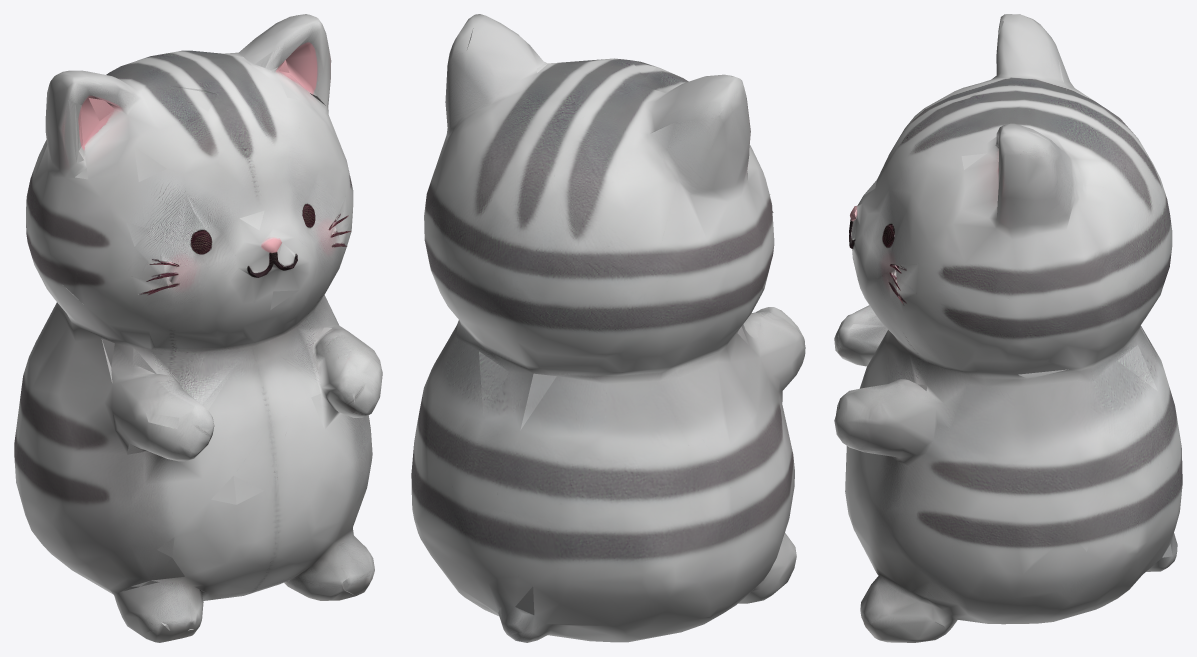
The model's file is PelucheChat.fbx.
The picture shows the model from 3 angles, left to right: view 1: azimuth 30°, elevation 25°; view 2: azimuth 150°, elevation 25°; view 3: azimuth 270°, elevation 25°; orthographic projection. The views are drawn at different scales.
Visible parts, largest first — view 1: Mesh_0; view 2: Mesh_0; view 3: Mesh_0.
Part boxes in pixels (bbox=[...]): Mesh_0: bbox=[14, 14, 382, 642]; Mesh_0: bbox=[411, 14, 805, 642]; Mesh_0: bbox=[834, 14, 1182, 642].
Bounding box in the file's own units: 117 × 190 × 115.
Materials: 1 (1 with a texture image).
